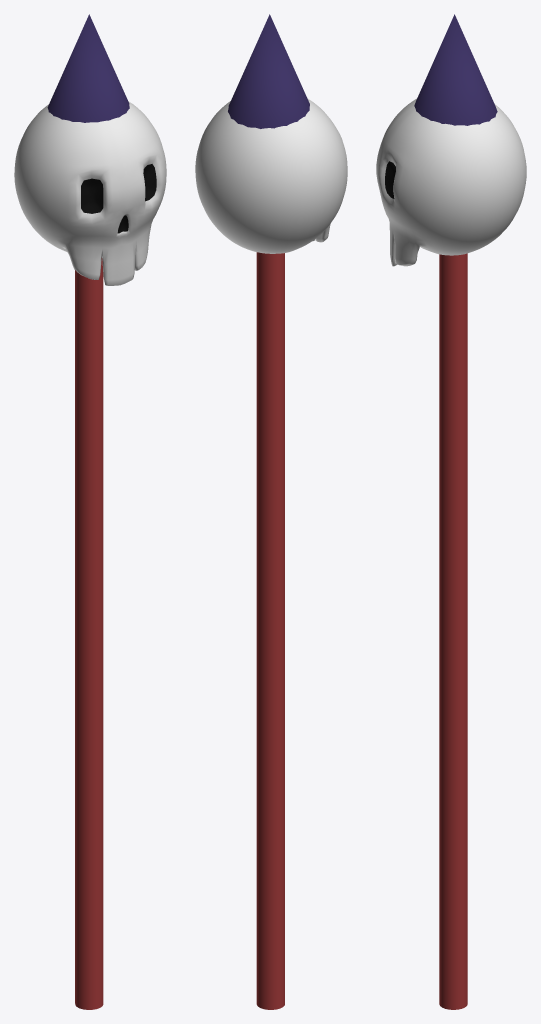
The model's file is HugoStaff.fbx.
The picture shows the model from 3 angles, left to right: view 1: azimuth 30°, elevation 25°; view 2: azimuth 150°, elevation 25°; view 3: azimuth 270°, elevation 25°; orthographic projection.
Parts seen in each view (by area): view 1: pSphere1; view 2: pSphere1; view 3: pSphere1.
Boxes of the visible parts, x1=… form: pSphere1: x1=14, y1=14, x2=166, y2=1009; pSphere1: x1=195, y1=14, x2=347, y2=1009; pSphere1: x1=376, y1=14, x2=526, y2=1009.
Bounding box in the file's own units: 3.14 × 22.37 × 3.08.
